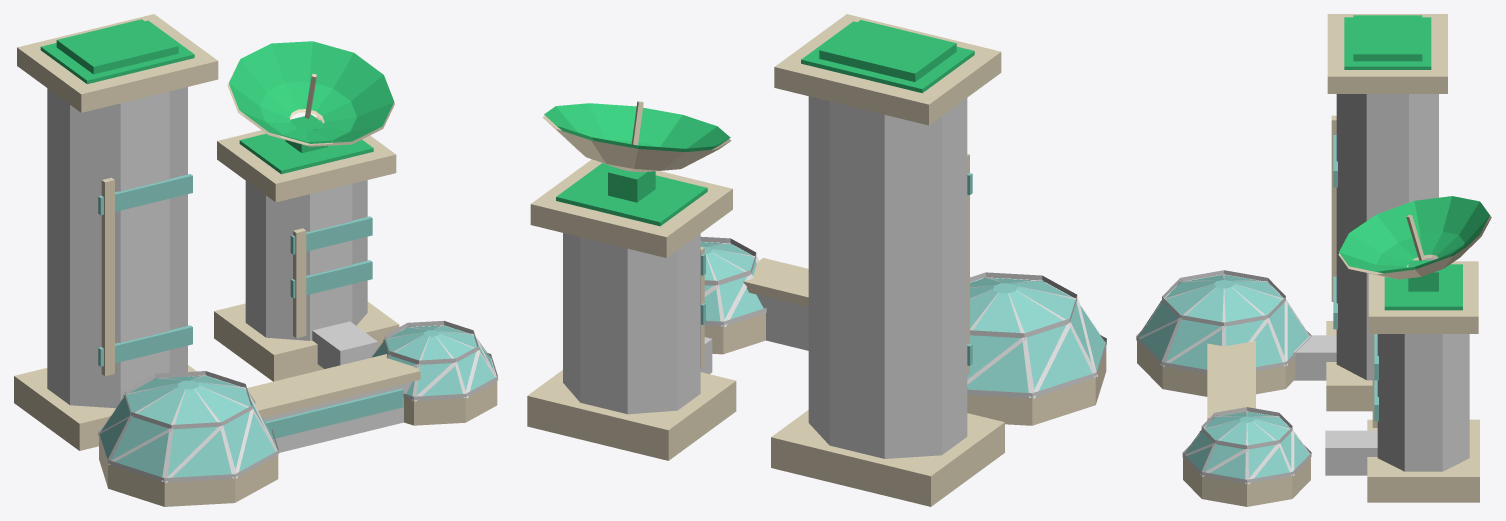
Rendered from space_scene_habitat_upgrade.glb.
3 views of the same model, side by side, from view 1: azimuth 30°, elevation 25°; view 2: azimuth 150°, elevation 25°; view 3: azimuth 270°, elevation 25° (orthographic). The views are drawn at different scales.
Visible parts, largest first — view 1: FixedDetails, WoodBody, BrassTrim; view 2: WoodBody, FixedDetails, BrassTrim; view 3: FixedDetails, WoodBody, BrassTrim.
Boxes of the visible parts, x1,y1,x2,y2 form: FixedDetails: (14,14,497,506); WoodBody: (47,87,498,482); BrassTrim: (40,19,394,174); WoodBody: (563,96,1106,458); FixedDetails: (527,14,1106,506); BrassTrim: (544,20,974,226); FixedDetails: (1137,14,1491,506); WoodBody: (1136,94,1469,484); BrassTrim: (1339,15,1489,310).
Size of the model in its own units: 0.7043 by 0.6227 by 0.5834.
